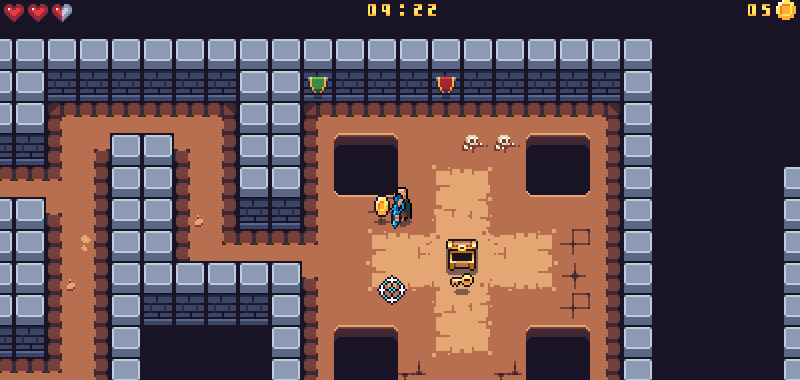gold: (372, 194, 390, 218)
key: (447, 269, 475, 288)
treasury_open: (444, 237, 480, 272)
